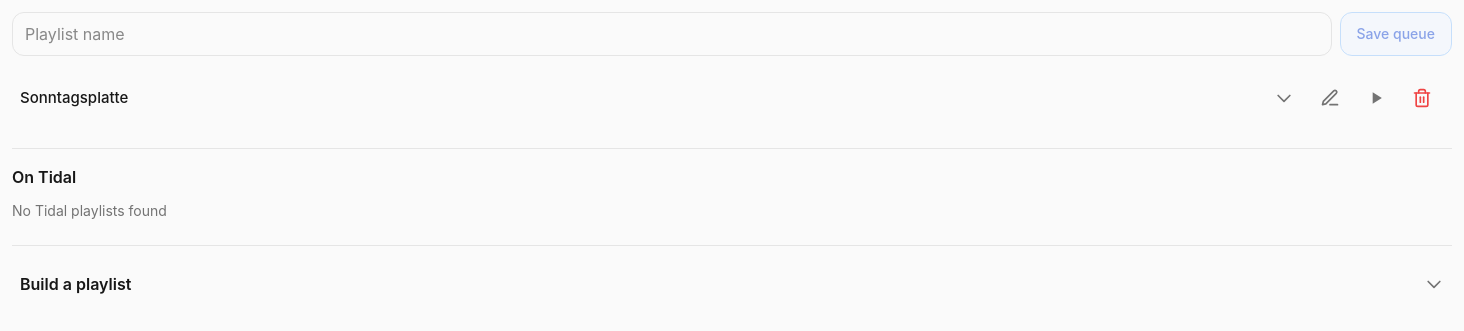
Test: PlaylistsPanel – a language switch after mount › re-renders the delete label in the new language while the delete is armed
Click the button with test id "playlist-delete-button".
click(1422, 98)  # box [1400,76,1444,120]
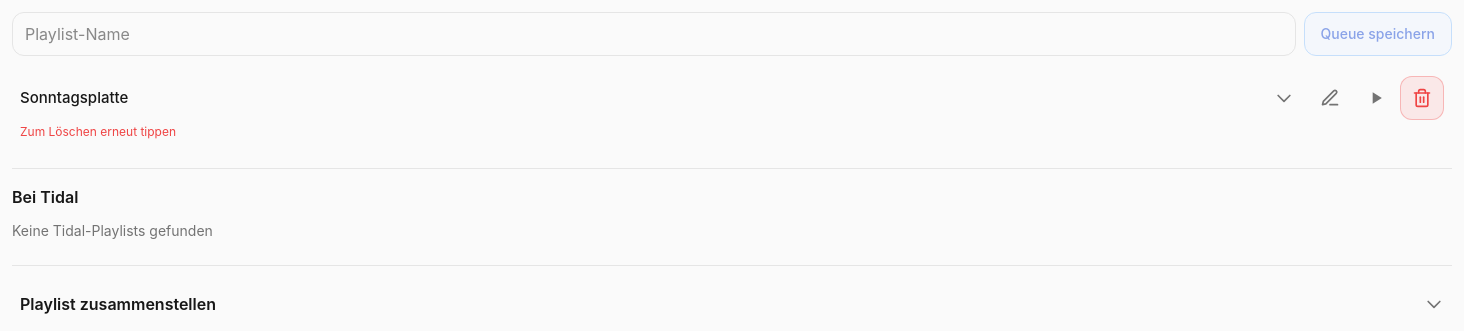
expect the text with test id "playlist-delete-confirm" reads "Zum Löschen erneut tippen": met, box [20,124,176,139]
